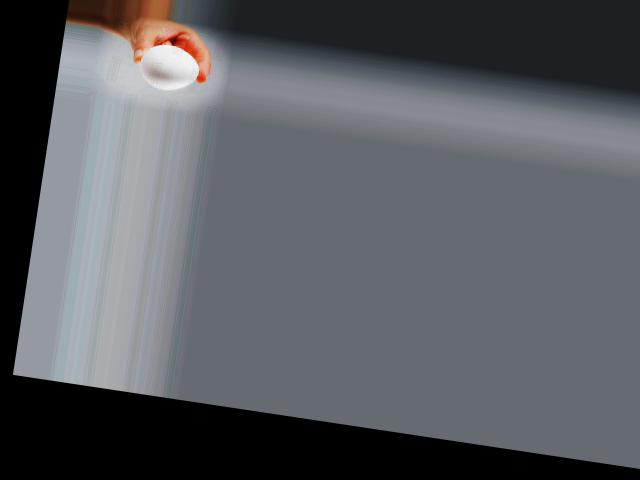egg: (137, 42, 202, 93)
